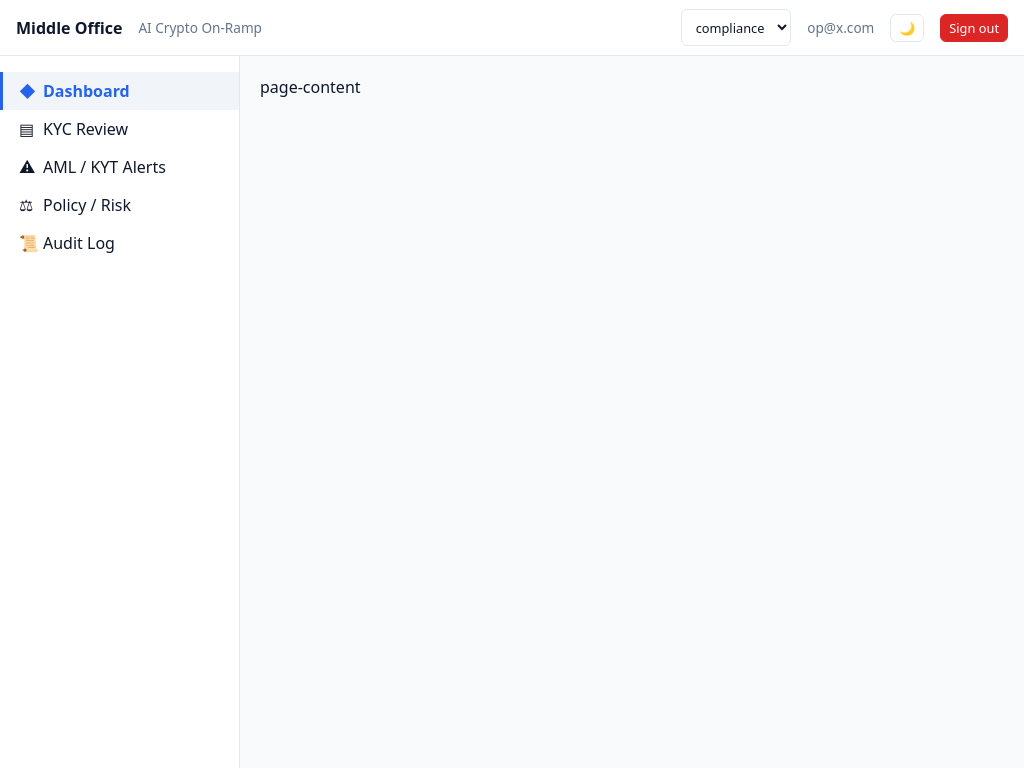
Test: AppLayout › switch role select changes role
Select "admin" in the dropdown named "switch role". click: [736, 28]
box: [681,9,791,46]
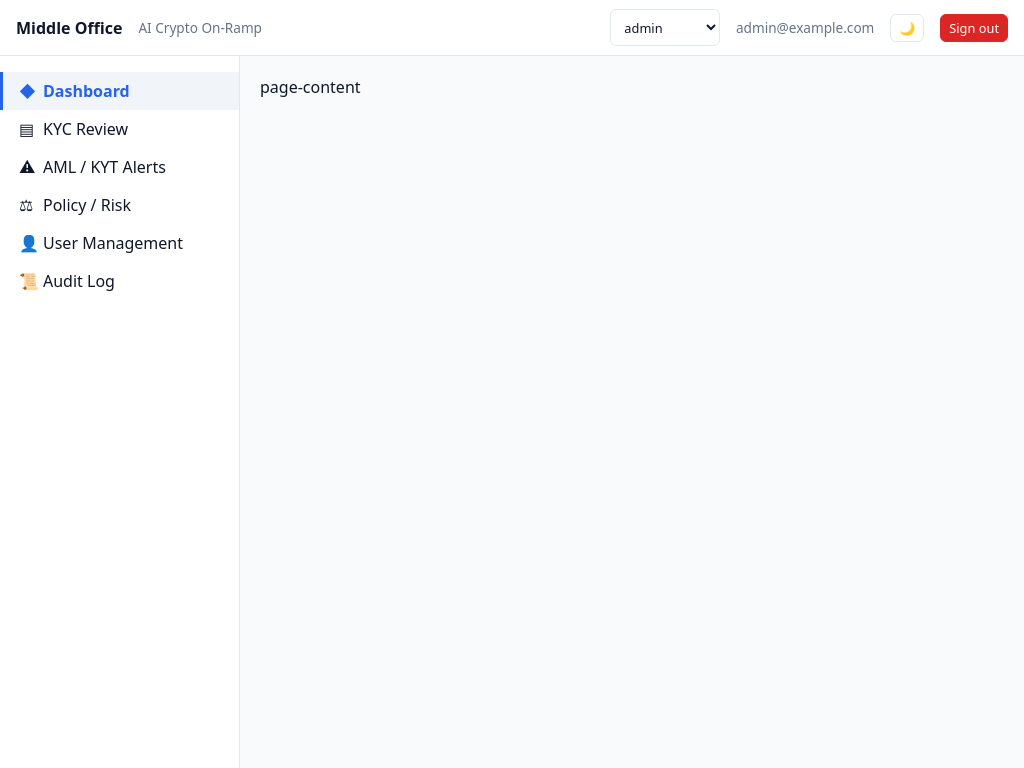
Result: the link "👤 User Management" is shown at [19,232,183,254]
